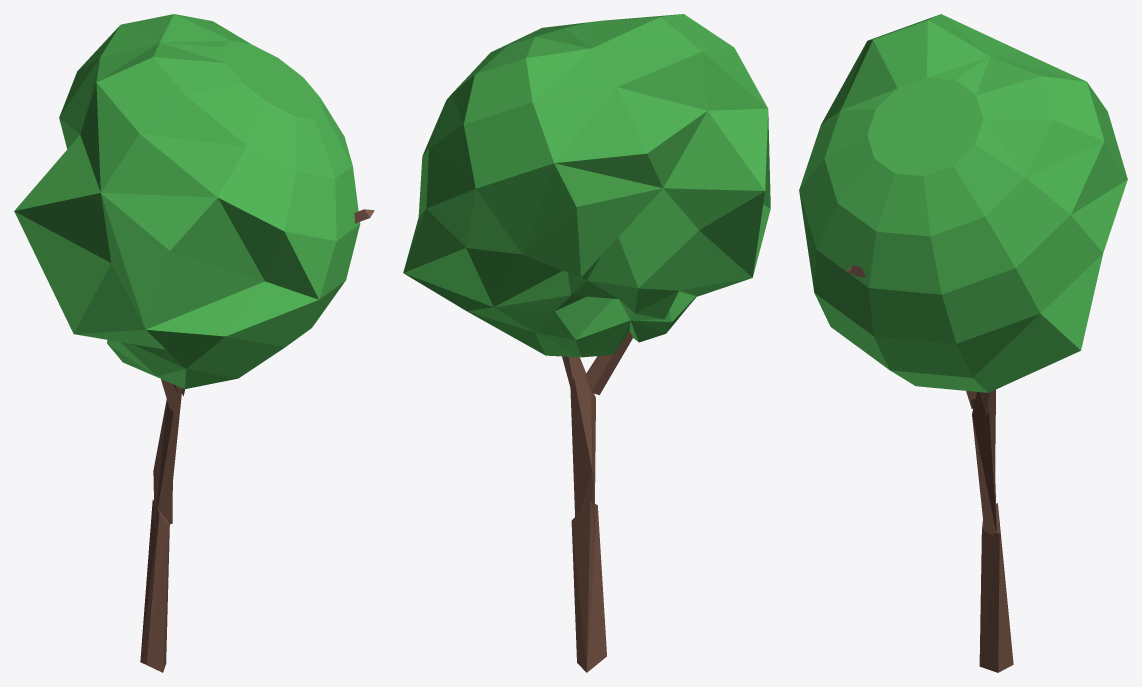
File: tree-test.glb
The picture shows the model from 3 angles, left to right: view 1: azimuth 30°, elevation 25°; view 2: azimuth 150°, elevation 25°; view 3: azimuth 270°, elevation 25°; orthographic projection. The views are drawn at different scales.
Parts seen in each view (by area): view 1: Node; view 2: Node; view 3: Node.
Boxes of the visible parts, bbox=[...] form: Node: bbox=[14, 14, 374, 672]; Node: bbox=[403, 14, 770, 672]; Node: bbox=[799, 14, 1127, 672].
Bounding box in the file's own units: 2.36 × 4.47 × 2.11.
